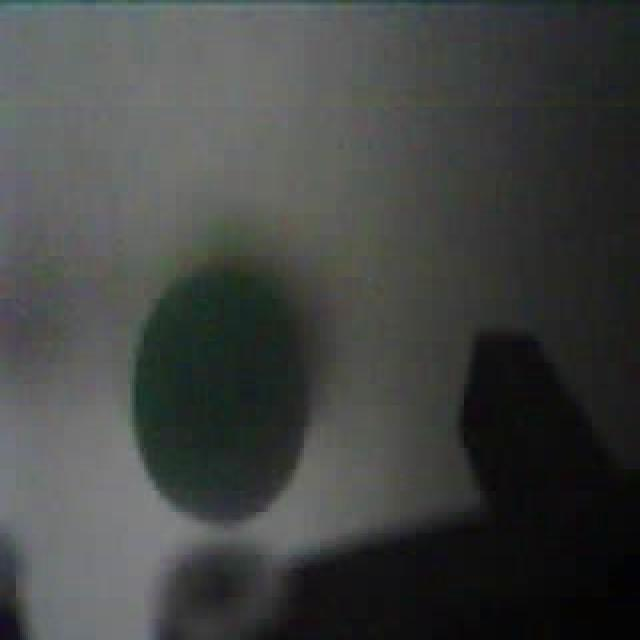green_ball: (126, 254, 312, 526)
